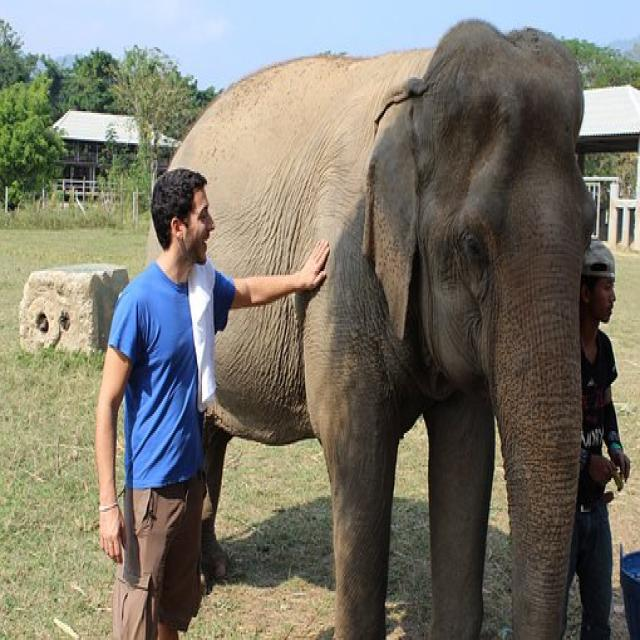Elephant: (156, 7, 639, 640)
